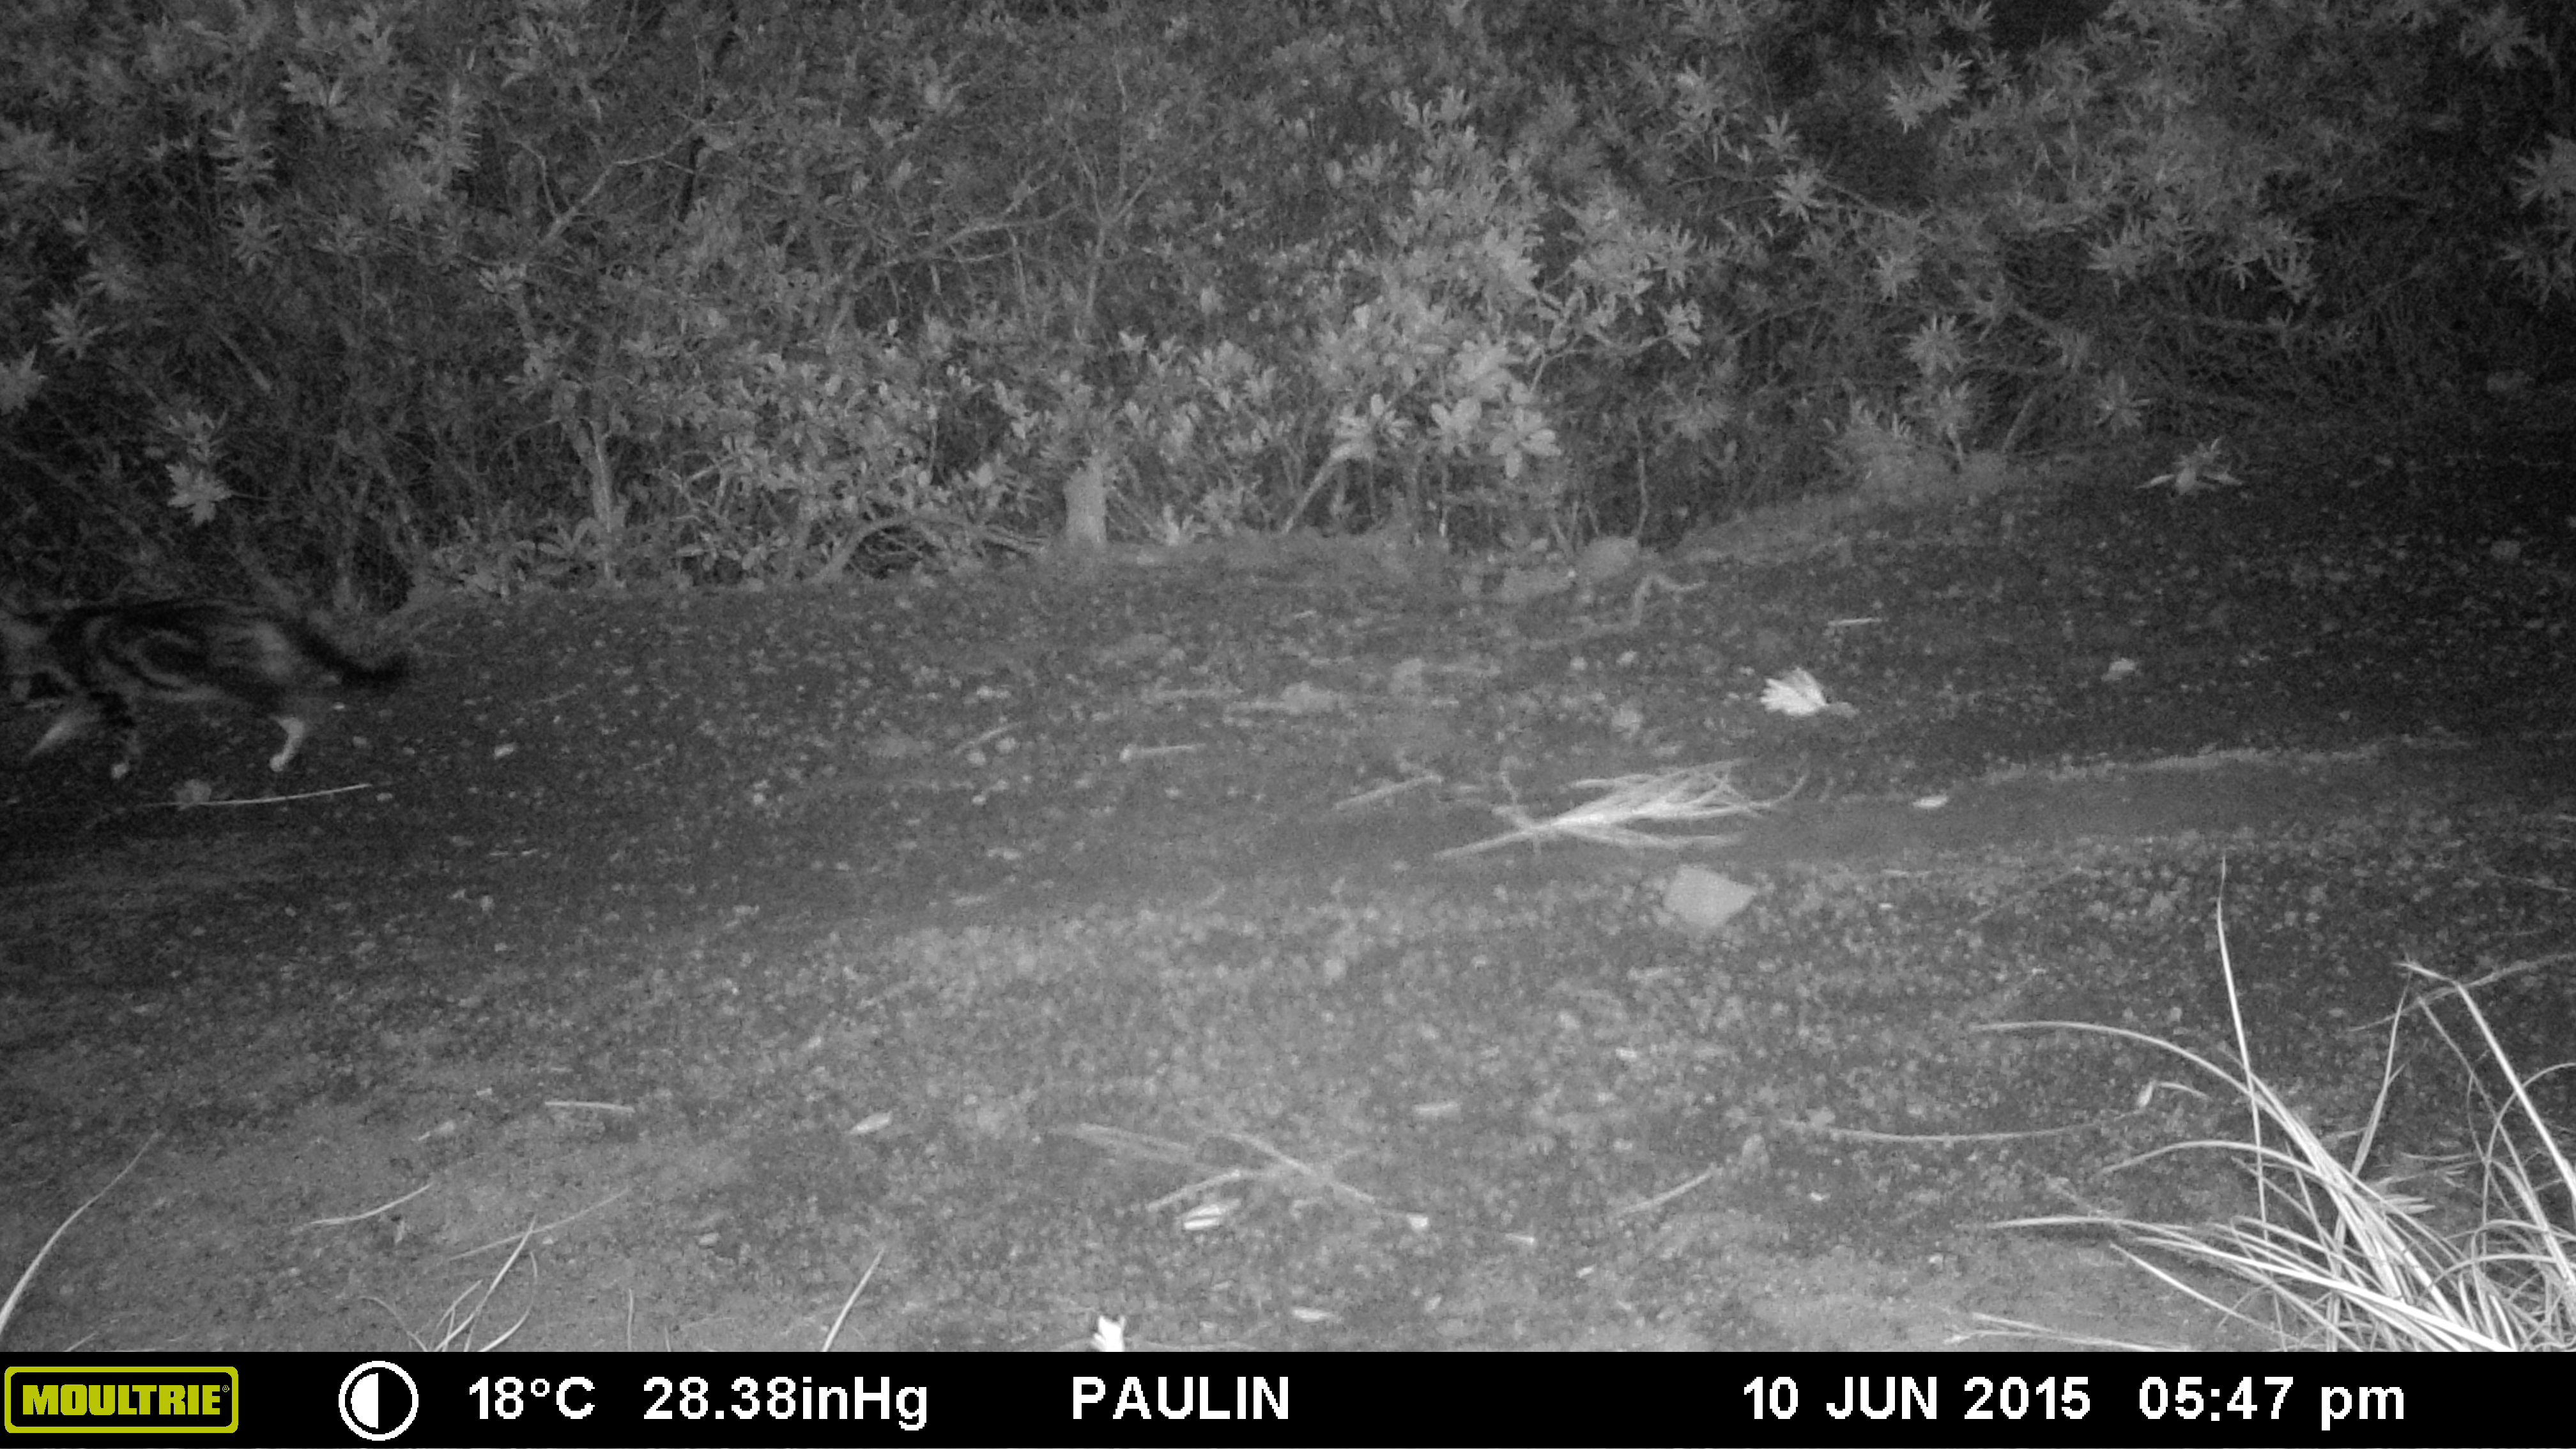cat: (2, 579, 421, 812)
